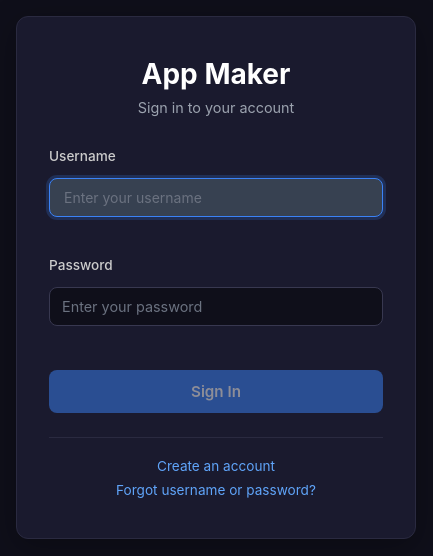
Scenario: LoginView › enables submit when both fields are filled
Type "testuser" into the field with test id "login-username" at (216, 197), box [49,178,383,216]
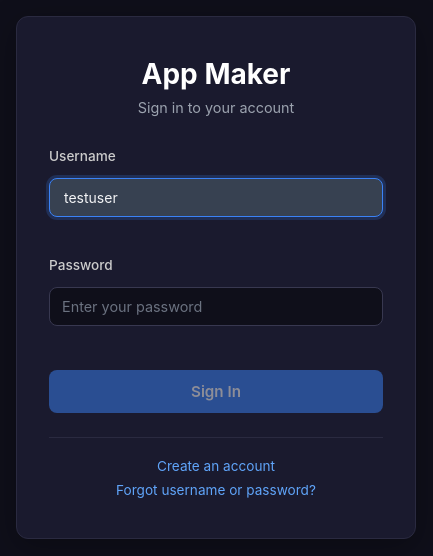
Type "password123" into the password field with test id "login-password" at (216, 306), box [49,286,383,326]
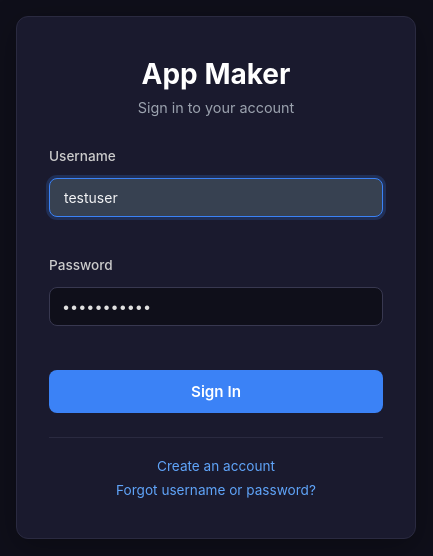
Expected: the button with test id "login-submit" is enabled, [49,370,383,412]
